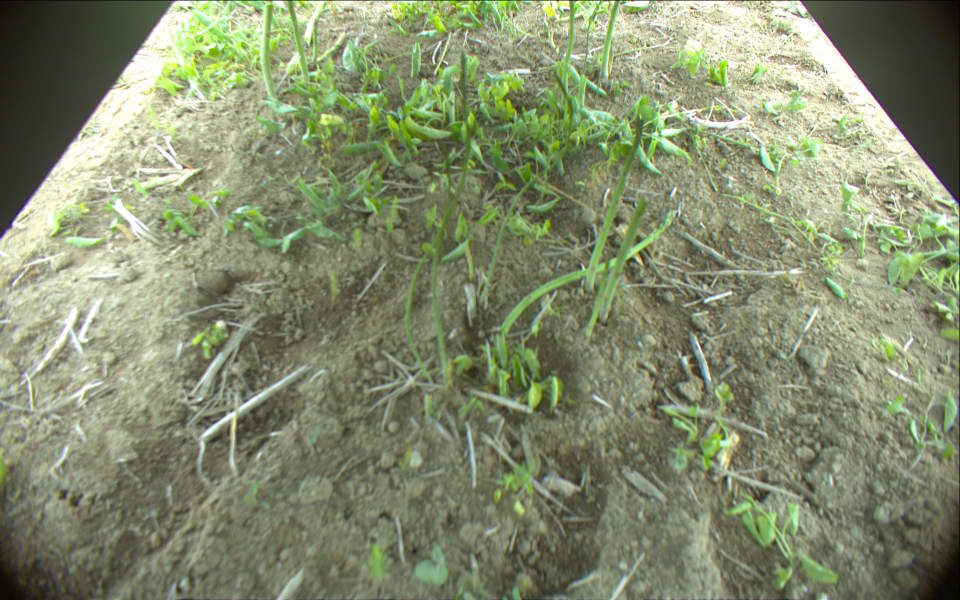aspa: (405, 52, 471, 390), (500, 209, 678, 334), (585, 118, 643, 293), (600, 197, 647, 323), (439, 141, 452, 376), (286, 1, 311, 85), (587, 261, 612, 337), (262, 1, 279, 104), (602, 1, 620, 79), (563, 1, 577, 90), (304, 1, 328, 43), (317, 30, 346, 59)
